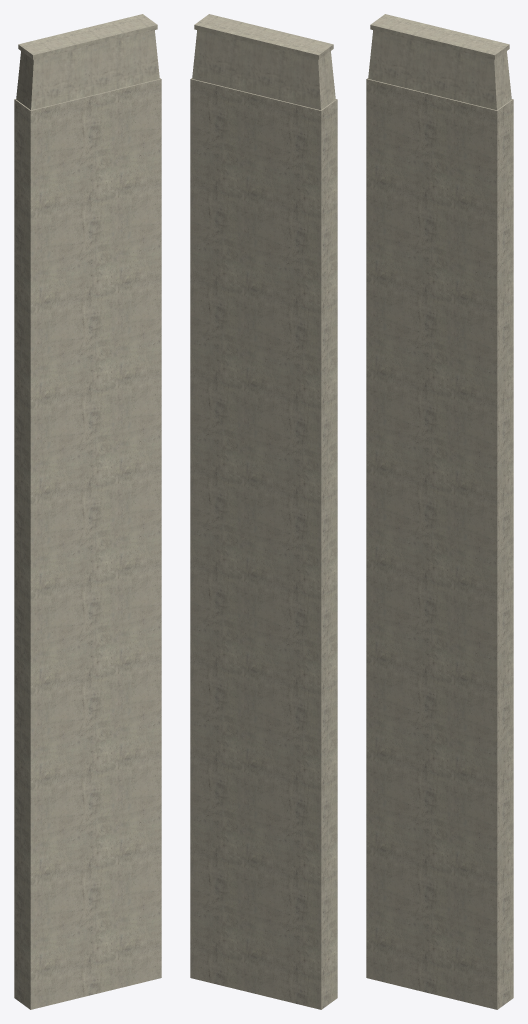
Rendered from BridgePillar2-4L.FBX.
The picture shows the model from 3 angles, left to right: view 1: azimuth 30°, elevation 25°; view 2: azimuth 150°, elevation 25°; view 3: azimuth 330°, elevation 25°; orthographic projection.
Parts seen in each view (by area): view 1: BridgePillar2-4L; view 2: BridgePillar2-4L; view 3: BridgePillar2-4L.
Boxes of the visible parts, x1,y1,x2,y2 form: BridgePillar2-4L: (14,14,161,1009); BridgePillar2-4L: (190,14,337,1009); BridgePillar2-4L: (366,14,513,1009).
Size of the model in its own units: 30.48 by 212 by 6.5.
